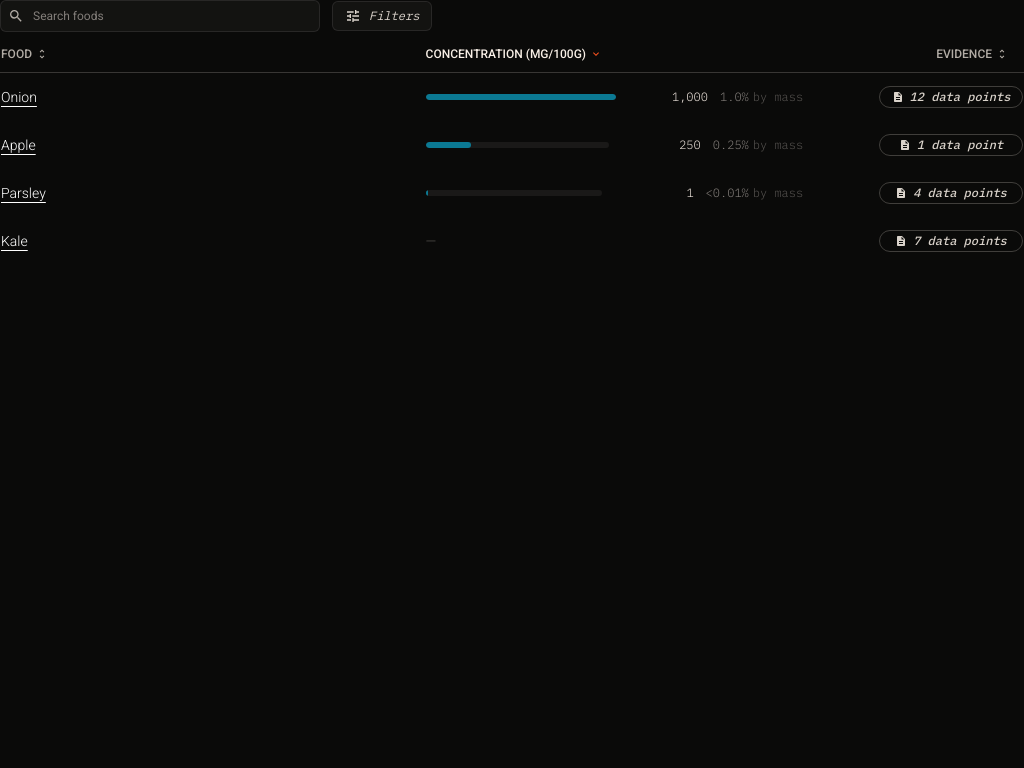
evidence modal › names the pair the row came from
What coordinates should you click on to do the following:
click the button "12 data points"
I would click on:
 (951, 96)
Its box is 879,86 -> 1023,108.
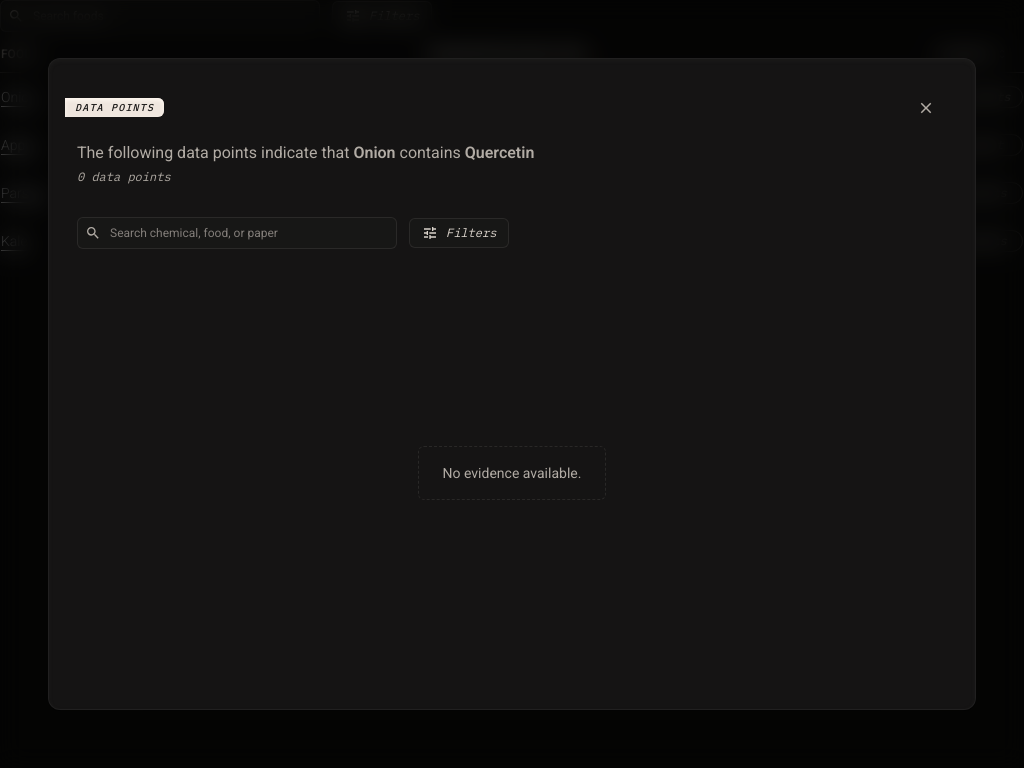
Expected: the text "onion" is shown, 353,143 -> 396,162
